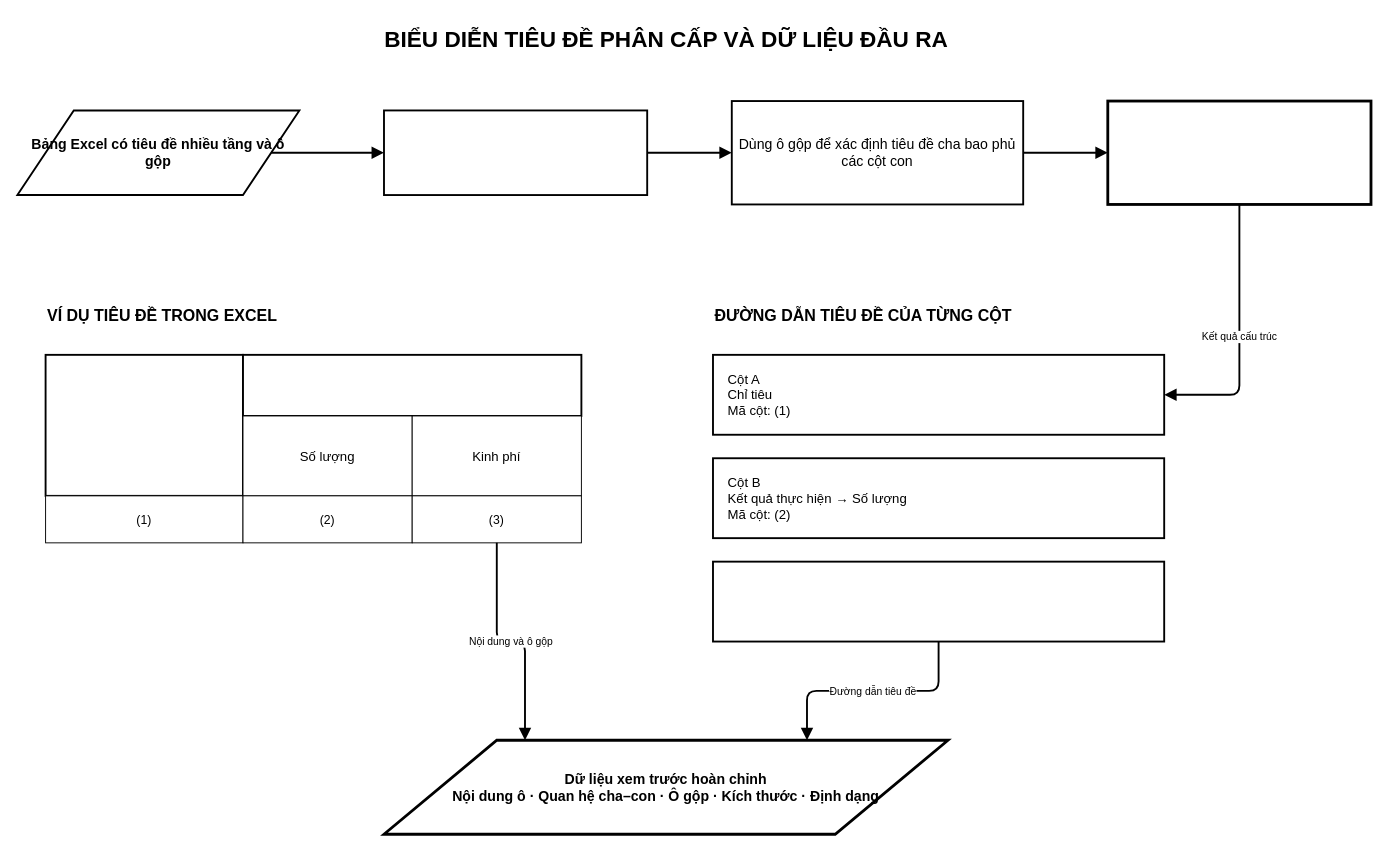
Image size: 1388x852. Some labels were removed from this diagram. Each missing label, with the box of its shape:
Chỉ tiêu: (44, 353, 243, 496)
Cột C Kết quả thực hiện → Kinh phí Mã cột: (3): (712, 560, 1165, 642)
Kết quả thực hiện: (242, 353, 582, 416)
Tạo đường dẫn tiêu đề cho từng cột từ trên xuống: (1106, 99, 1372, 205)
Xác định các hàng thuộc phần tiêu đề: (383, 109, 648, 196)
